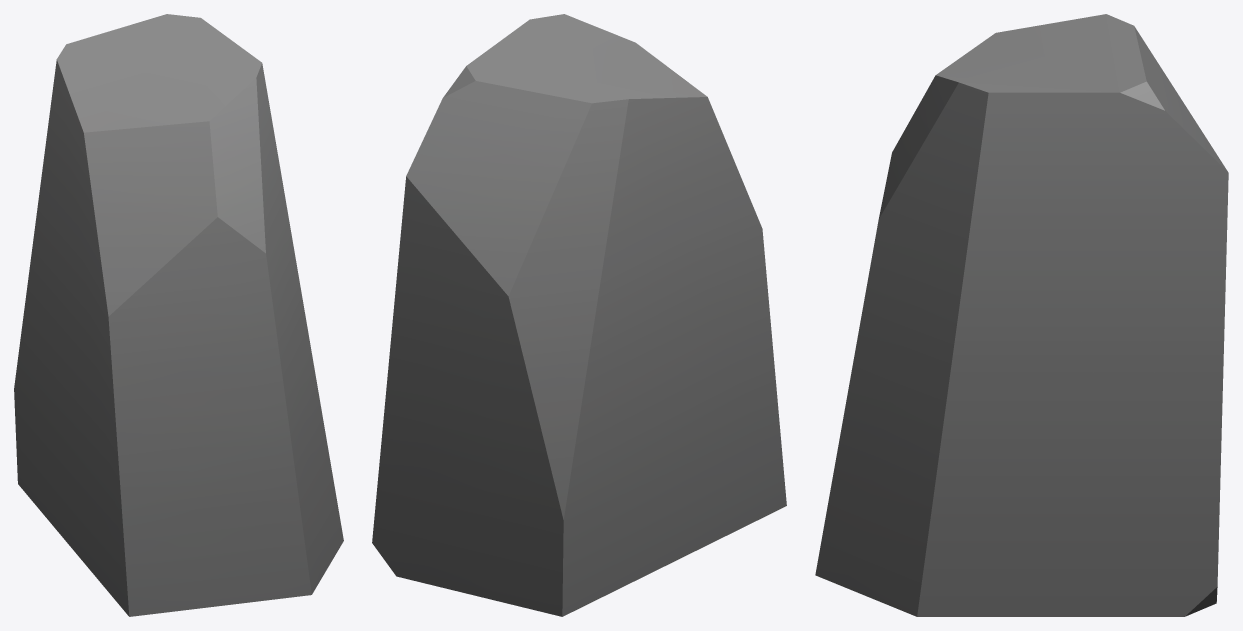
The model's file is Rock007.fbx.
The picture shows the model from 3 angles, left to right: view 1: azimuth 30°, elevation 25°; view 2: azimuth 150°, elevation 25°; view 3: azimuth 270°, elevation 25°; orthographic projection. The views are drawn at different scales.
Parts seen in each view (by area): view 1: Cube.032; view 2: Cube.032; view 3: Cube.032.
Boxes of the visible parts, <box> form: Cube.032: <box>14,14,343,616</box>; Cube.032: <box>372,14,786,616</box>; Cube.032: <box>815,14,1228,616</box>.
Bounding box in the file's own units: 182 × 338 × 254.
